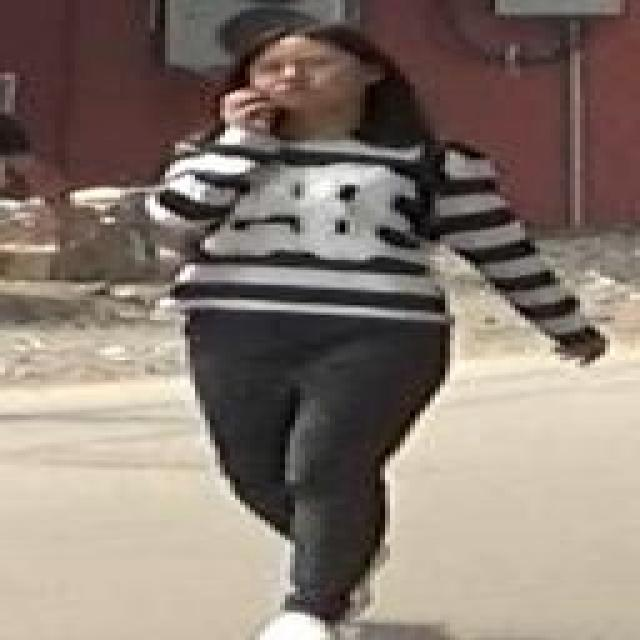adult: (140, 31, 570, 640)
